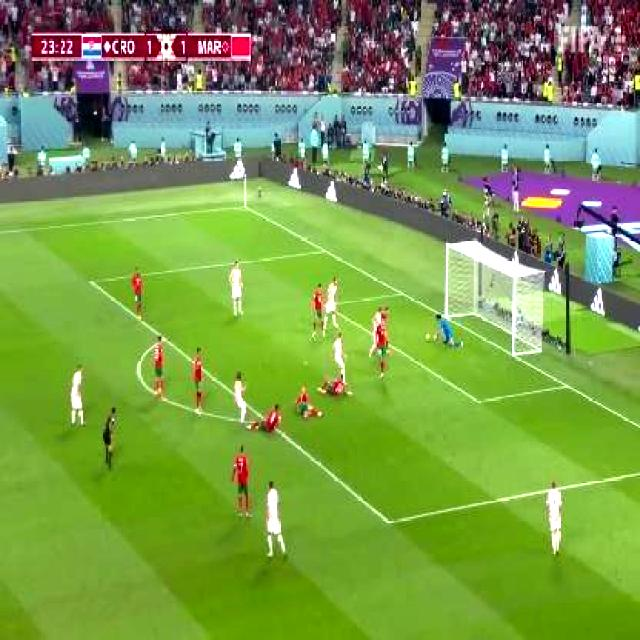bigarea_bottom_inner: (380, 508, 397, 535)
bigarea_top_inner: (84, 274, 96, 289)
bigarea_top_outter: (318, 244, 328, 256)
corner: (237, 203, 248, 211)
smallarea_bottom_inner: (470, 389, 484, 411)
smallarea_bottom_outter: (562, 377, 572, 392)
smallarea_top_outter: (396, 286, 406, 300)
top_arc_area_intersection: (159, 334, 166, 344)
